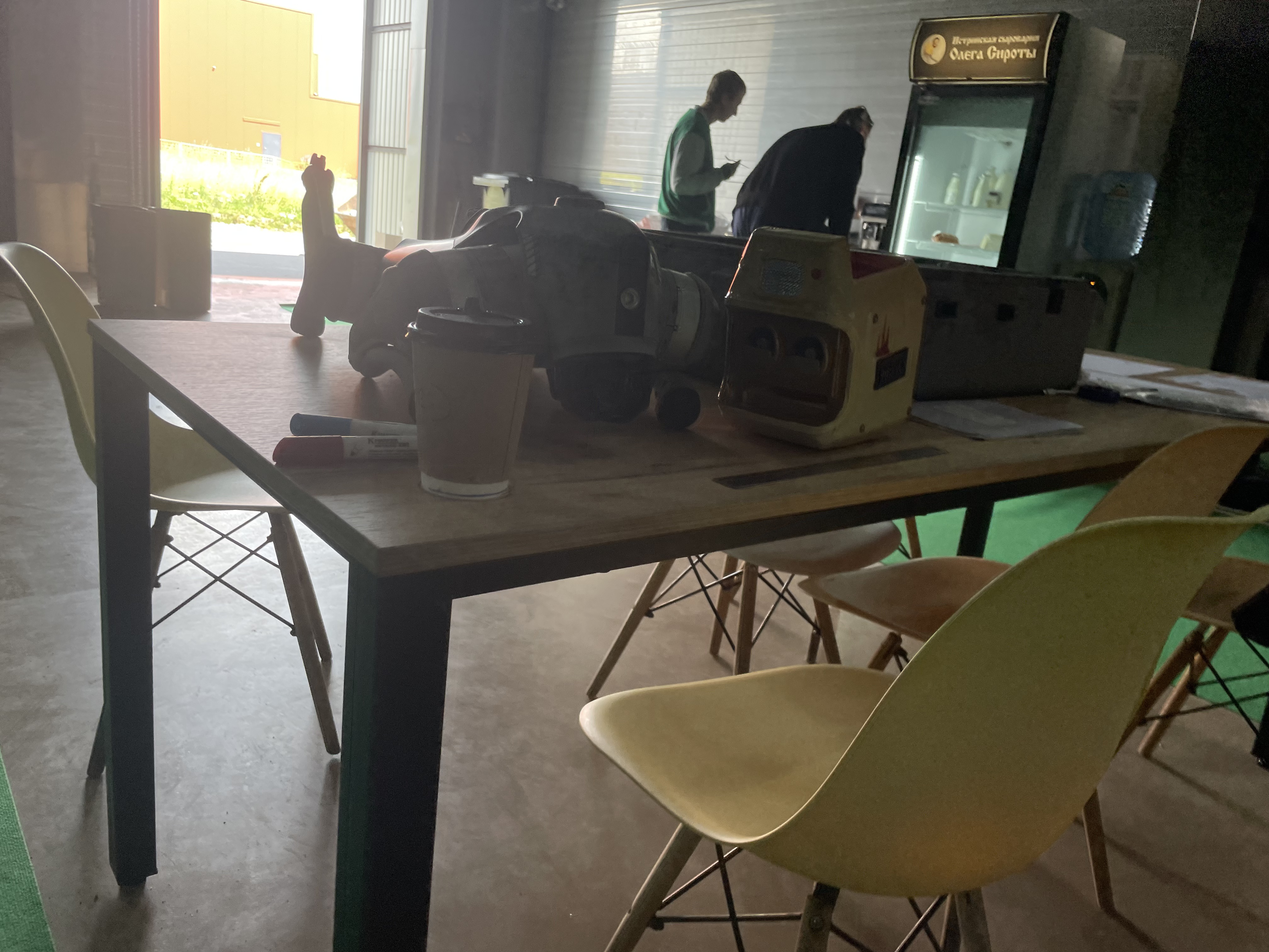cup: (405, 297, 538, 500)
